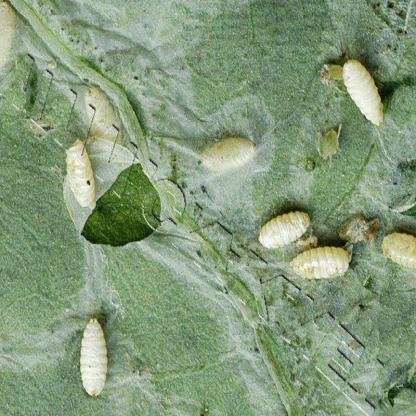whorl-maggot: (343, 50, 385, 134), (76, 316, 112, 401), (286, 244, 358, 286), (252, 211, 322, 249), (197, 131, 263, 169), (62, 138, 96, 210), (385, 226, 416, 275)
